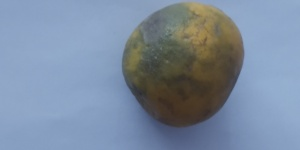BAD: (118, 1, 249, 126)
